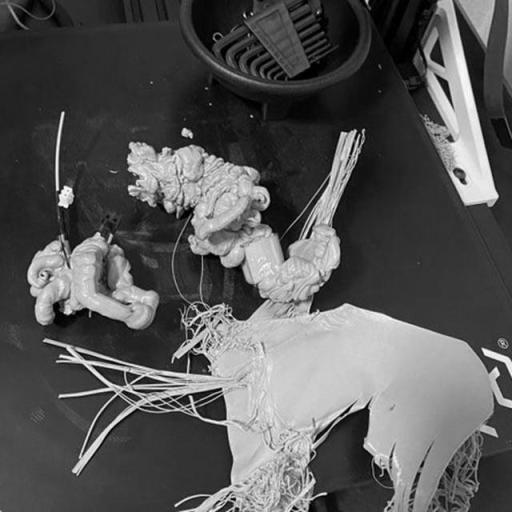spaghetti_and_stringing: (207, 418, 328, 511), (430, 430, 484, 512), (178, 301, 248, 354)
